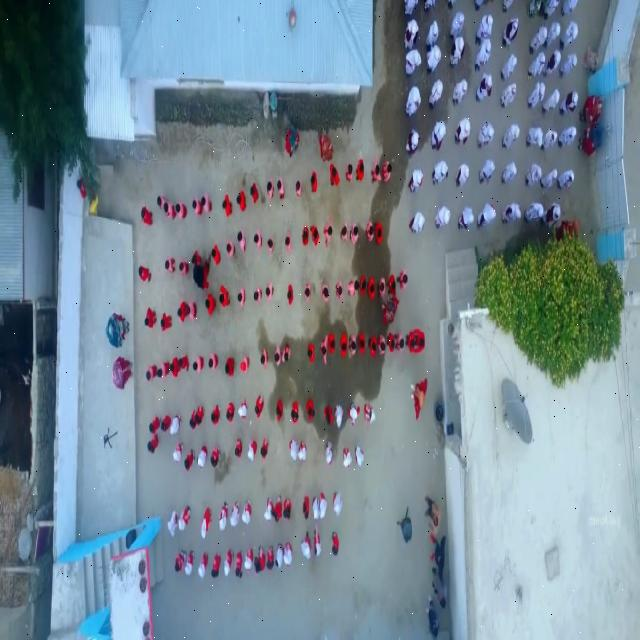humans: (136, 202, 152, 237), (234, 224, 248, 263), (355, 153, 369, 192), (326, 159, 339, 200), (286, 396, 302, 429), (220, 348, 236, 381), (174, 188, 187, 228), (381, 156, 396, 190), (283, 276, 296, 315), (373, 220, 388, 253), (220, 183, 232, 224), (252, 391, 266, 426), (337, 218, 351, 253), (138, 254, 152, 289), (320, 399, 333, 436), (203, 289, 216, 326), (216, 283, 232, 313), (300, 276, 313, 312), (258, 434, 270, 472), (370, 154, 382, 192), (366, 272, 379, 307), (280, 230, 294, 262), (336, 329, 349, 363), (206, 340, 219, 374), (196, 396, 207, 436), (366, 328, 378, 364), (264, 276, 276, 312), (163, 249, 176, 282), (332, 273, 344, 308), (208, 242, 222, 272), (308, 165, 320, 200), (232, 431, 244, 466), (142, 301, 156, 331), (348, 272, 361, 304), (347, 220, 360, 252), (199, 188, 212, 220), (224, 396, 236, 430), (270, 342, 282, 376), (234, 282, 247, 313), (175, 289, 185, 329), (176, 250, 190, 278), (304, 338, 317, 368), (250, 284, 262, 316), (250, 230, 262, 262), (328, 323, 337, 365), (320, 277, 331, 311), (324, 224, 334, 260), (235, 185, 246, 217), (344, 159, 354, 194), (192, 348, 204, 377), (162, 192, 172, 226), (320, 335, 328, 377), (299, 224, 310, 254), (210, 442, 221, 472), (266, 230, 276, 262), (156, 359, 166, 391), (154, 187, 165, 215), (158, 312, 172, 334), (311, 218, 319, 256), (189, 193, 199, 223), (276, 174, 286, 202), (224, 239, 233, 269), (366, 216, 375, 246), (265, 174, 274, 204), (260, 344, 268, 377), (249, 176, 257, 208), (292, 178, 302, 203)
